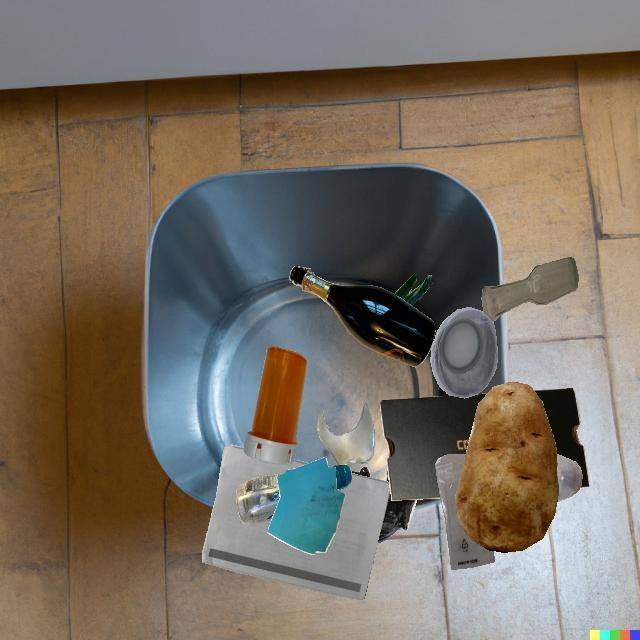biowaste: (455, 381, 559, 553), (394, 274, 433, 306)
cardboard: (380, 393, 488, 500), (533, 388, 590, 489)
glass: (289, 266, 435, 367), (481, 257, 579, 322), (317, 403, 375, 465)
paper: (202, 444, 391, 600), (268, 457, 345, 555)
plastic: (244, 346, 307, 464), (435, 454, 495, 570), (431, 307, 498, 398), (236, 473, 284, 525), (377, 499, 417, 543), (556, 453, 583, 502), (355, 474, 391, 499)
